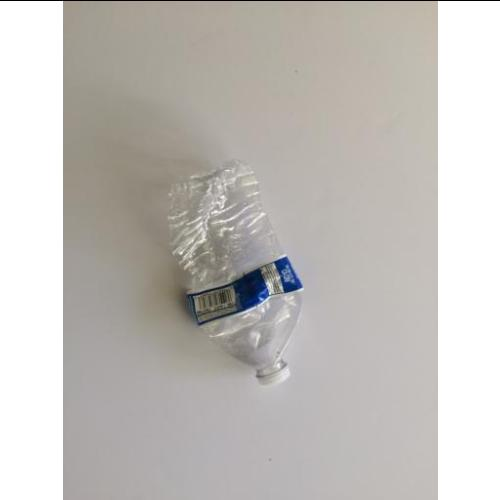plastic: (160, 161, 302, 390)
